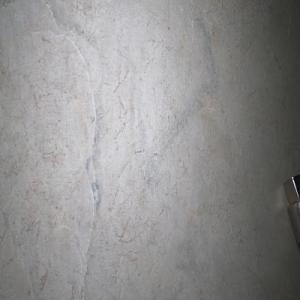MetalPart: (282, 171, 300, 244)
